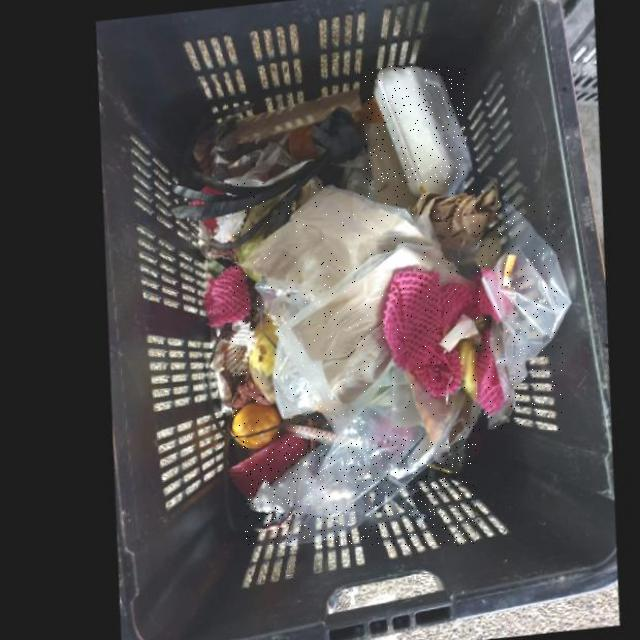biowaste: (240, 314, 274, 400), (229, 404, 276, 448)
plastic: (233, 183, 473, 435), (246, 361, 476, 545), (473, 199, 564, 429)
styrofoam: (364, 66, 466, 196)
